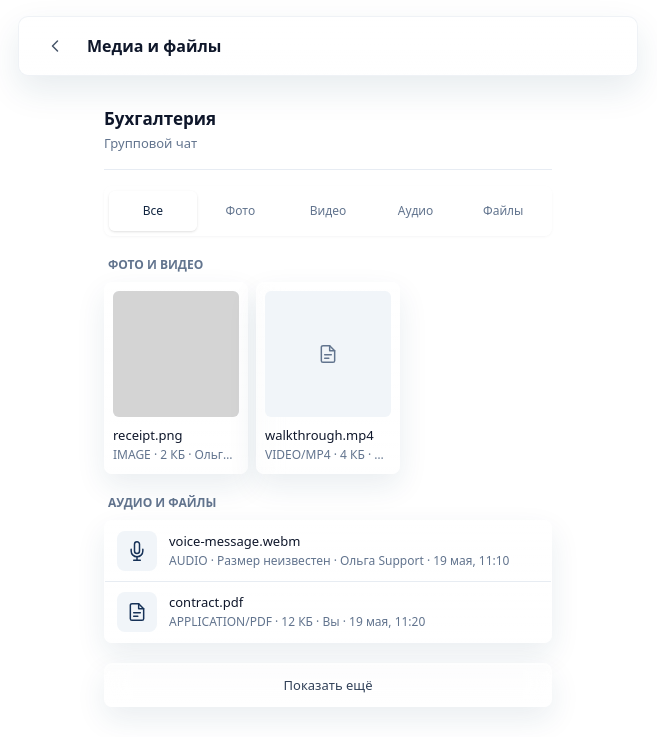
Test: ChatMediaPage › filters visible items while preserving mixed layout
Click the button "Фото".
click(240, 211)  # box [197, 191, 284, 231]
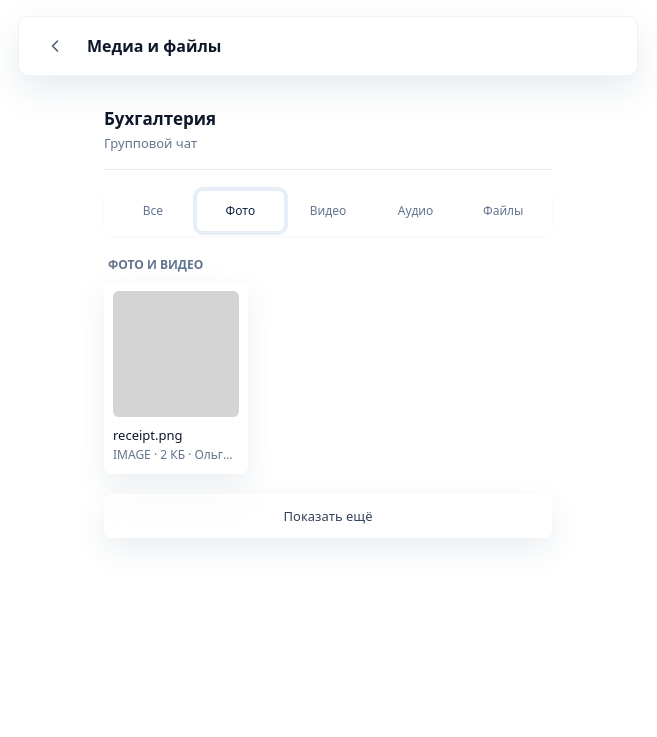
Expected: the text "receipt.png" is shown, [113, 426, 183, 444]
Now the link "walkthrough.mp4" is gone
Now the link "contract.pdf" is gone
Click the button "Файлы".
click(503, 211)  # box [459, 191, 547, 231]
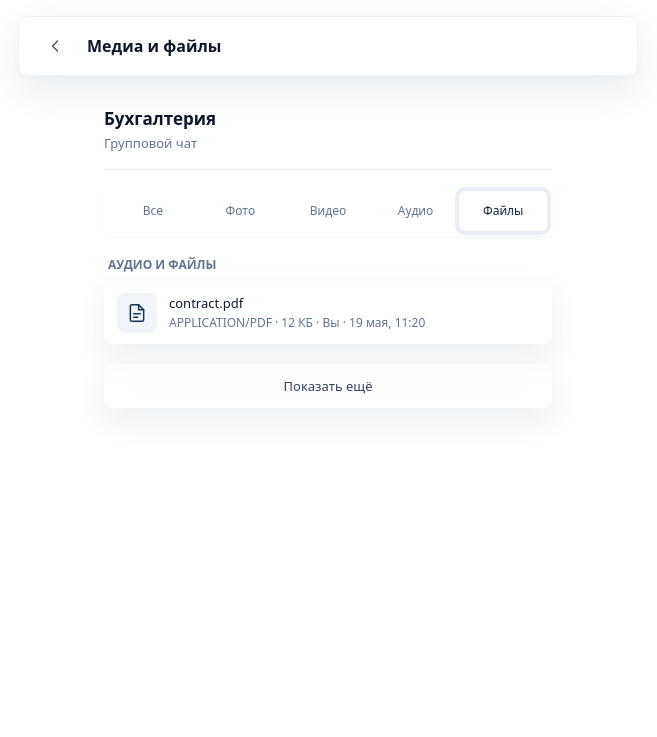
Now the text "contract.pdf" is shown, box [169, 294, 243, 312]
Now the link "receipt.png" is gone
